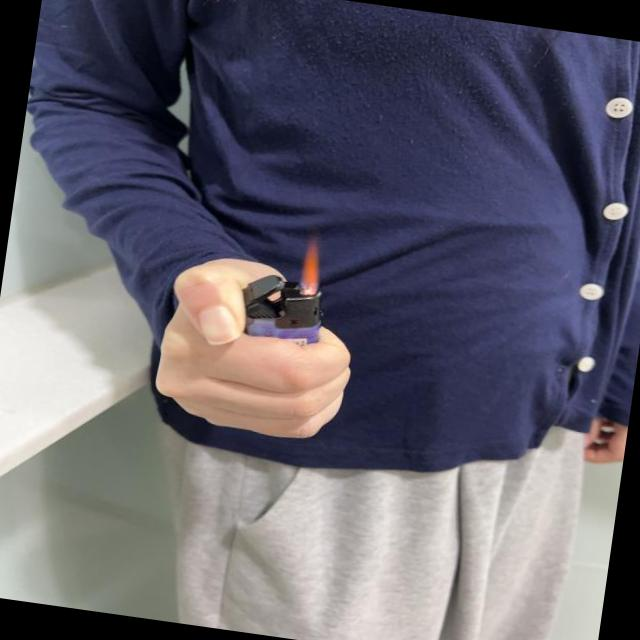Fire: (296, 232, 326, 294)
